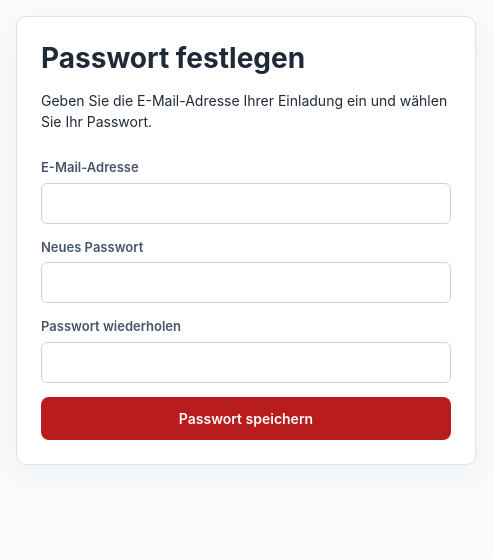
ChangePassword invitation › keeps password confirmation independent and rejects a mismatch
The image size is (493, 559).
In the field labelled "E-Mail-Adresse": (246,203) [41,182,451,224], type "user@example.com"
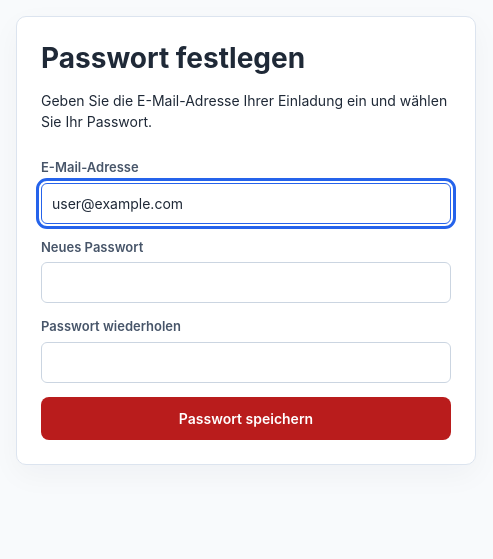
In the password field labelled "Neues Passwort": (246,282) [41,262,451,303], type "NewPassword123"
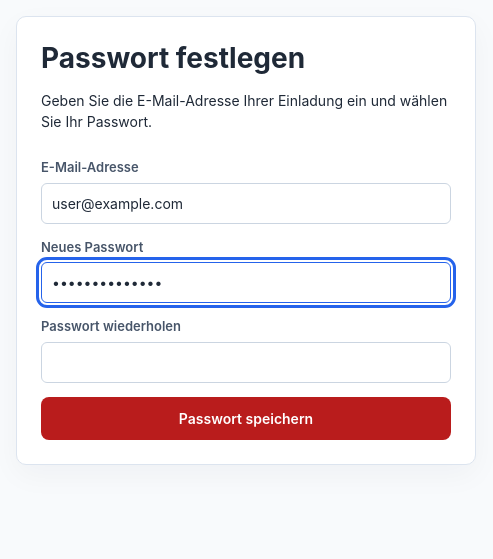
In the password field labelled "Passwort wiederholen": (246,362) [41,342,451,382], type "DifferentPassword123"
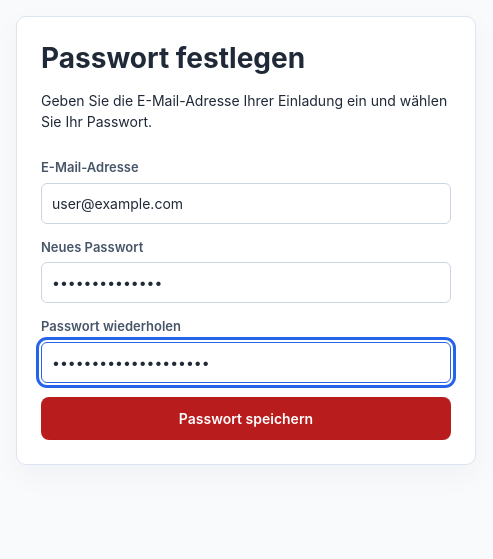
Click the button "Passwort speichern": (246,418) [41,396,451,440]
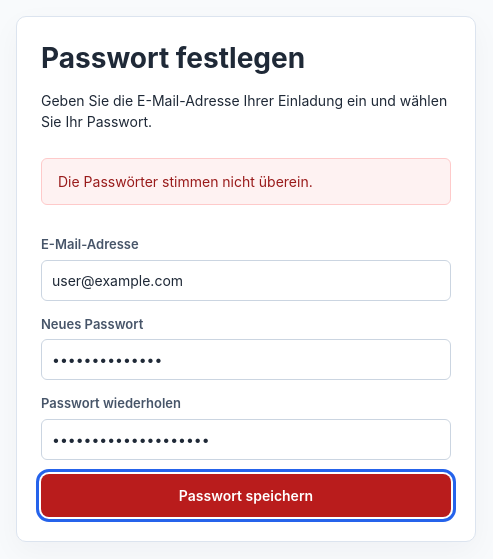
Expected: the message shows "stimmen nicht überein", [58,173,313,190]
